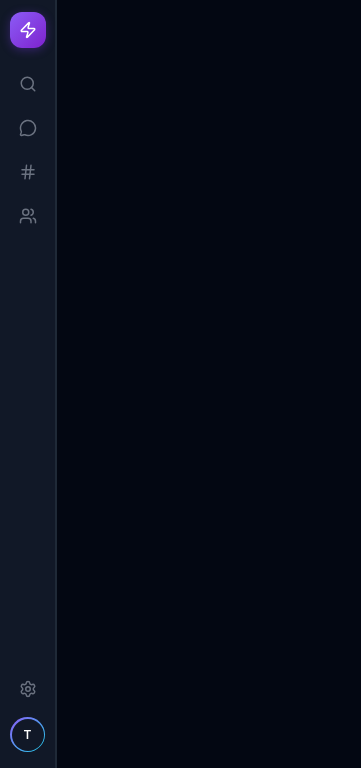
Test: Sidebar — Messages panel scoped search › shows empty state when no contacts match
Step 1. Click the button named "Messages" → [28, 128], box left=8, top=108, right=48, bottom=148
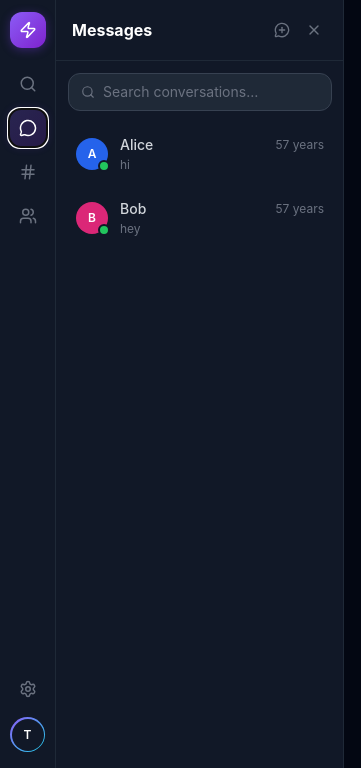
Step 2. Type "xyz" into the field with placeholder "Search conversations…" → [211, 92], box left=103, top=82, right=319, bottom=102
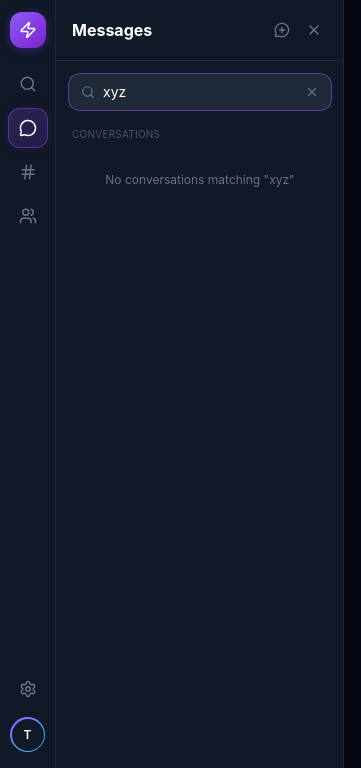
Check: the text "No conversations matching \"xyz\"" is shown, box left=105, top=172, right=295, bottom=187
